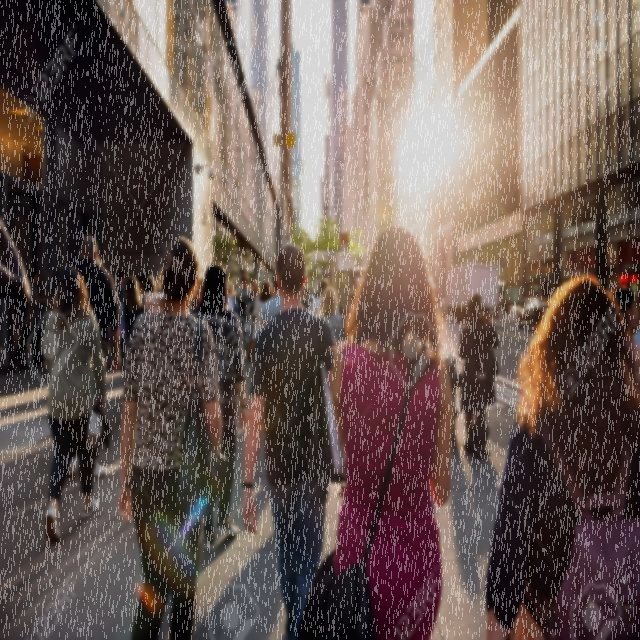pessoa: (484, 272, 640, 640), (324, 223, 461, 640), (236, 235, 352, 640), (115, 236, 224, 640), (0, 456, 124, 640), (35, 262, 115, 546), (189, 260, 249, 553), (66, 234, 122, 482), (450, 441, 504, 607), (454, 286, 500, 458), (8, 264, 51, 375), (118, 276, 145, 380), (608, 276, 640, 358), (318, 286, 344, 348), (332, 287, 364, 332), (261, 272, 283, 332), (308, 278, 341, 318), (252, 280, 272, 340), (44, 262, 62, 326), (138, 267, 160, 312), (248, 278, 262, 346), (220, 280, 238, 318), (185, 276, 205, 307), (235, 272, 253, 305), (300, 282, 320, 310), (114, 269, 126, 305), (502, 294, 510, 322), (520, 294, 532, 308)
